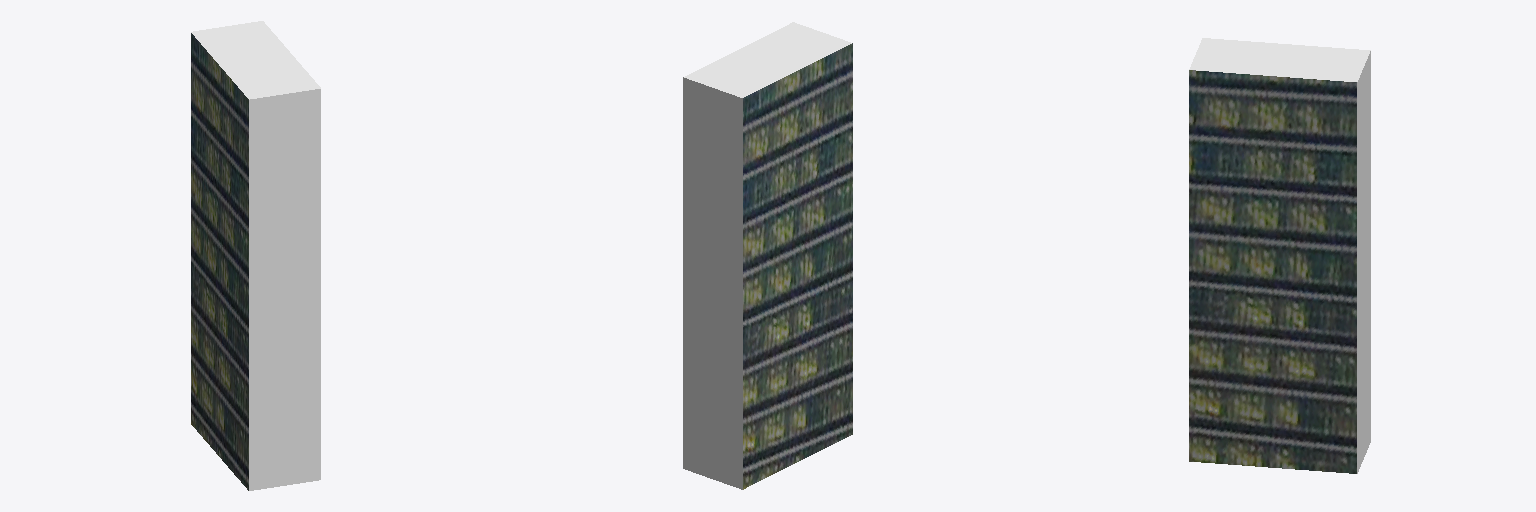
The picture shows the model from 3 angles: view 1: azimuth 30°, elevation 25°; view 2: azimuth 150°, elevation 25°; view 3: azimuth 270°, elevation 25°; orthographic projection.
Parts seen in each view (by area): view 1: Cube; view 2: Cube; view 3: Cube.
Part boxes in pixels (bbox=[...]): Cube: bbox=[191, 21, 320, 490]; Cube: bbox=[683, 22, 852, 489]; Cube: bbox=[1189, 38, 1370, 473].
Size of the model in its own units: 1.24 by 5.05 by 2.13.
1 materials, 1 textured.